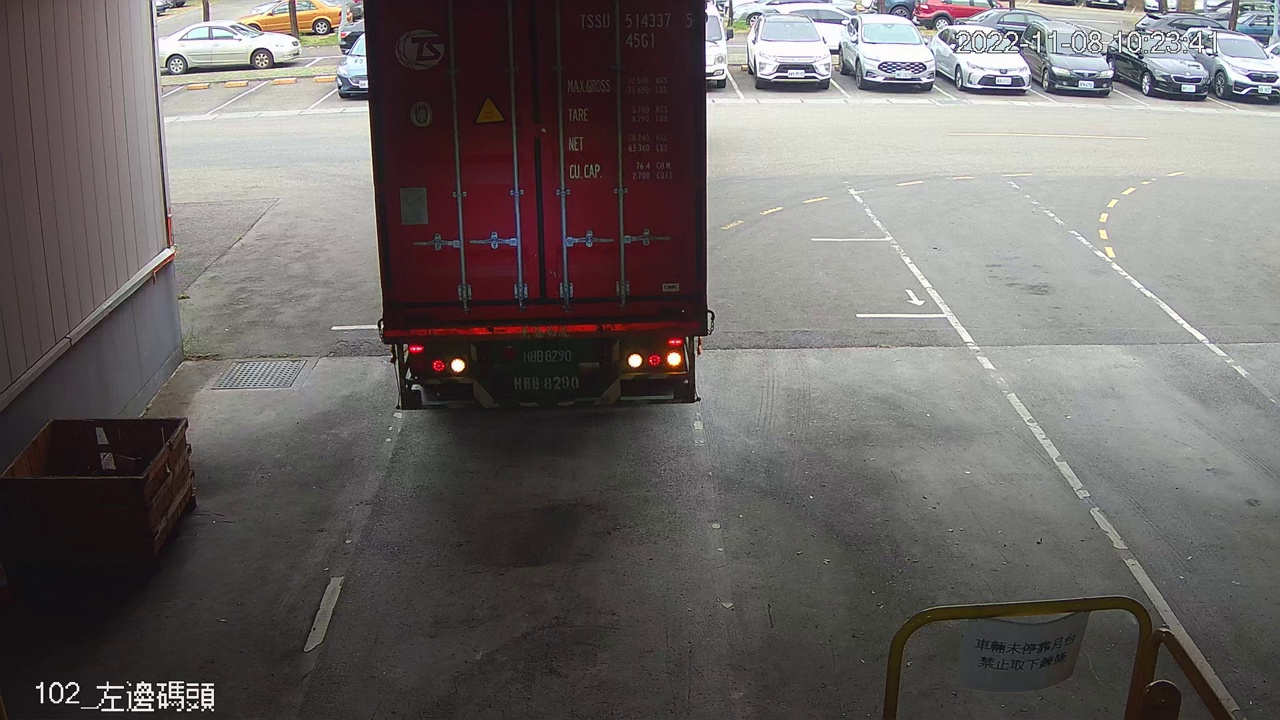container: (575, 5, 700, 53)
